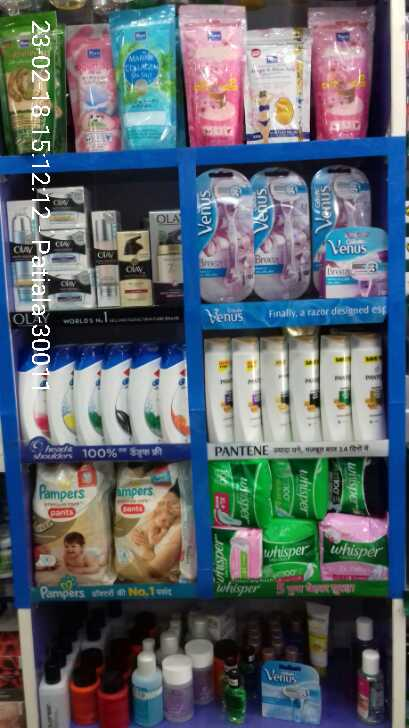venus: (199, 172, 256, 304), (256, 172, 313, 299), (325, 231, 390, 301), (262, 661, 323, 723), (316, 167, 374, 221)
